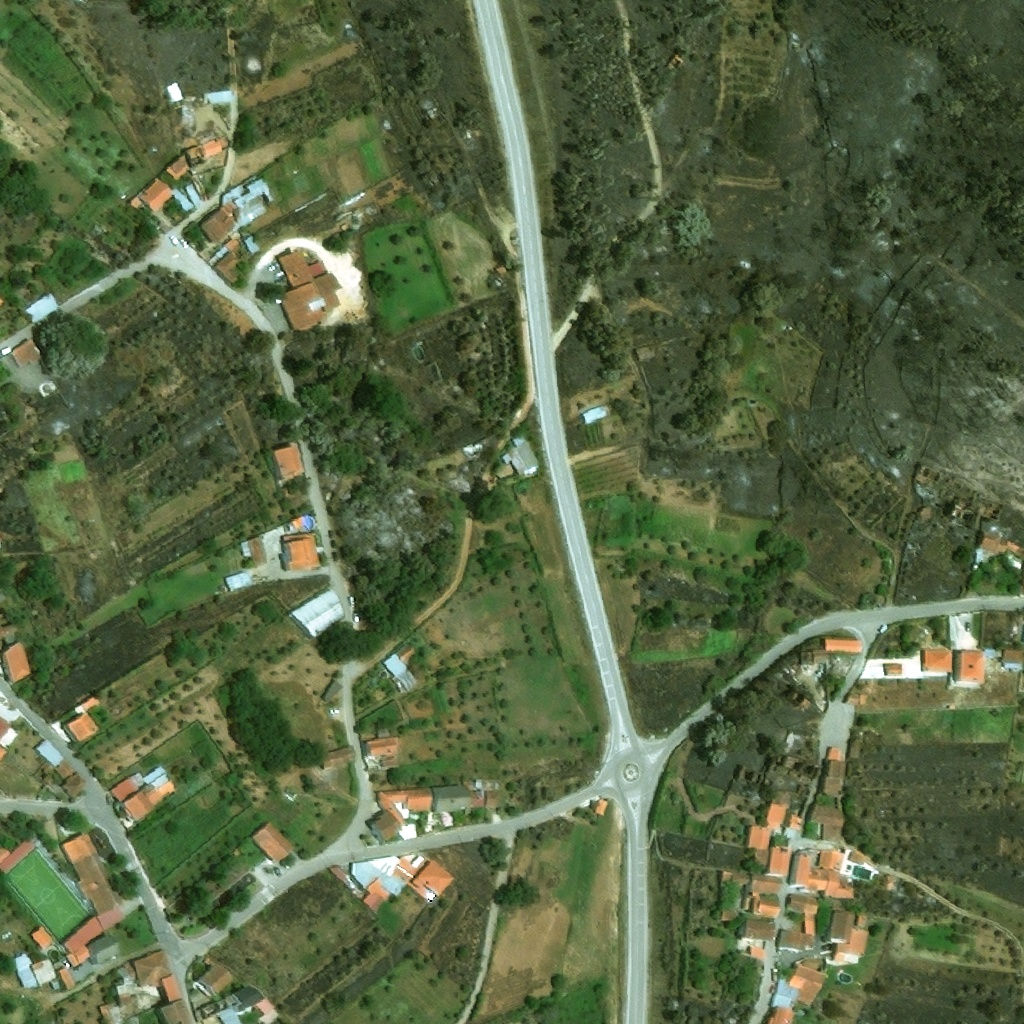0 no-damage: (60, 831, 124, 930), (277, 247, 344, 335), (109, 763, 176, 824), (789, 848, 856, 898), (286, 588, 348, 638), (390, 854, 455, 901), (220, 176, 274, 225), (350, 854, 405, 897), (198, 198, 248, 245), (972, 529, 1023, 572), (376, 787, 433, 825), (62, 914, 102, 968), (249, 820, 294, 864), (230, 983, 279, 1023), (381, 641, 419, 691), (499, 433, 540, 478), (34, 737, 75, 780), (131, 949, 175, 989), (788, 961, 827, 1005), (719, 868, 782, 895), (190, 961, 233, 1000), (953, 648, 997, 684), (280, 531, 319, 571), (0, 639, 33, 685), (358, 875, 397, 913), (785, 892, 819, 935), (21, 290, 61, 326), (136, 176, 174, 213), (206, 245, 240, 286), (807, 802, 843, 840), (271, 443, 305, 482), (832, 928, 868, 964), (198, 993, 239, 1023), (0, 838, 35, 873), (62, 711, 99, 744), (824, 904, 854, 944), (9, 950, 38, 991), (432, 785, 472, 814), (362, 727, 400, 757), (369, 809, 402, 843), (7, 337, 43, 368), (738, 917, 775, 944), (87, 933, 117, 966), (319, 744, 357, 770), (157, 997, 194, 1023), (770, 978, 803, 1007), (742, 893, 780, 918), (761, 799, 790, 831), (777, 928, 815, 952), (60, 770, 87, 799), (159, 973, 184, 1004), (582, 403, 615, 426), (920, 651, 953, 674), (767, 845, 792, 875), (30, 957, 56, 984), (113, 980, 139, 1006), (247, 534, 268, 565), (223, 569, 252, 591), (744, 825, 770, 849), (190, 172, 210, 201), (29, 925, 53, 949), (320, 678, 343, 703), (784, 812, 805, 839), (98, 1001, 123, 1023), (181, 183, 201, 210), (765, 1007, 798, 1023), (821, 776, 844, 798), (115, 961, 137, 984), (0, 619, 24, 640), (824, 639, 862, 652), (75, 695, 100, 714), (240, 233, 261, 255), (1001, 649, 1023, 670), (216, 1006, 242, 1023), (57, 966, 75, 990), (328, 865, 349, 884), (633, 344, 654, 362), (285, 514, 307, 531), (826, 760, 845, 779), (877, 873, 895, 892), (847, 850, 867, 866), (475, 778, 501, 790), (845, 692, 867, 706), (485, 791, 502, 809), (717, 908, 738, 922), (374, 755, 398, 767), (846, 738, 859, 759), (401, 823, 418, 839), (469, 791, 485, 808), (593, 799, 609, 816), (754, 849, 769, 866), (129, 195, 144, 211), (824, 746, 840, 761), (749, 945, 765, 959), (883, 663, 901, 675), (224, 237, 239, 251), (38, 761, 53, 775), (855, 909, 868, 925), (92, 913, 104, 930), (493, 263, 508, 275), (49, 978, 62, 991), (462, 780, 476, 791), (43, 774, 53, 784), (907, 666, 916, 676)
2 major-damage: (165, 155, 190, 179), (182, 143, 206, 167), (208, 138, 222, 153), (200, 141, 212, 156)
3 destroyed: (767, 741, 823, 788), (178, 89, 231, 134), (947, 499, 977, 527), (664, 51, 685, 74), (164, 79, 183, 103), (798, 649, 826, 664), (466, 442, 488, 459), (321, 340, 332, 350)
4 un-classified: (143, 218, 172, 242), (0, 714, 18, 749), (214, 158, 229, 170), (0, 744, 7, 760), (19, 524, 28, 532), (0, 295, 5, 304), (0, 640, 3, 650)
